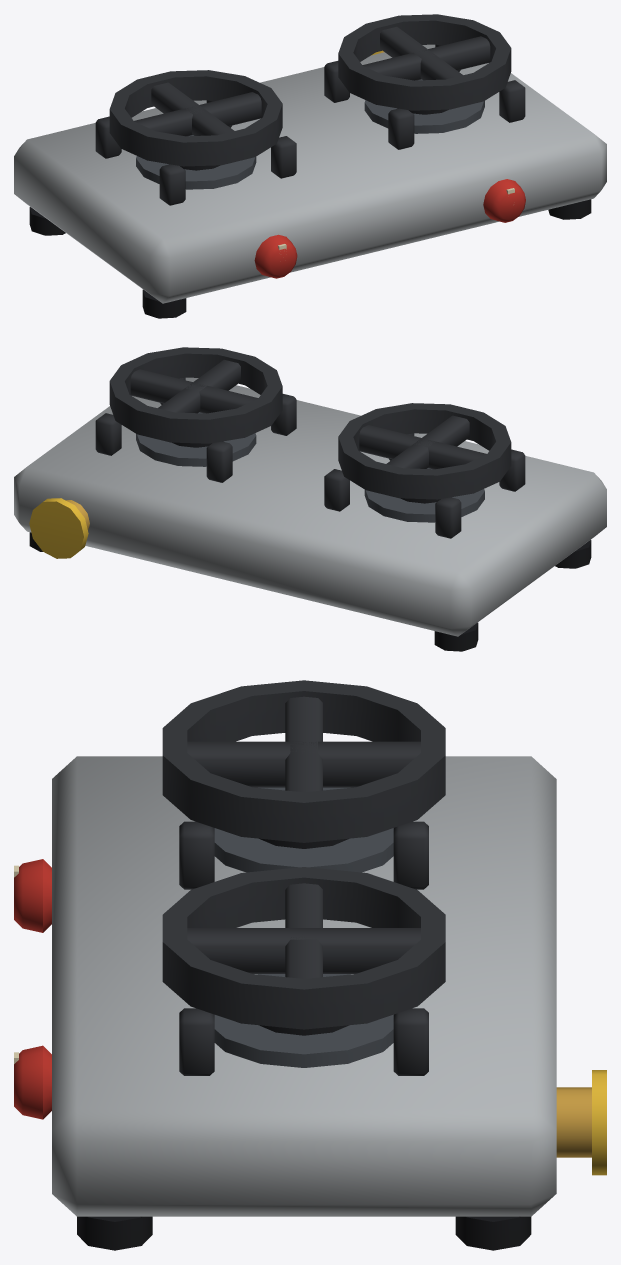
The model's file is SM_HotPlate_Double_01.glb.
3 views of the same model, one above another, from view 1: azimuth 30°, elevation 25°; view 2: azimuth 150°, elevation 25°; view 3: azimuth 270°, elevation 25° (orthographic). The views are drawn at different scales.
Parts seen in each view (by area): view 1: SM_HotPlate_Double_01; view 2: SM_HotPlate_Double_01; view 3: SM_HotPlate_Double_01.
Boxes of the visible parts, bbox=[...] form: SM_HotPlate_Double_01: bbox=[14, 14, 606, 318]; SM_HotPlate_Double_01: bbox=[14, 347, 606, 651]; SM_HotPlate_Double_01: bbox=[14, 680, 606, 1250].
Bounding box in the file's own units: 0.7 × 0.205 × 0.47.
Materials: 1 (1 with a texture image).
